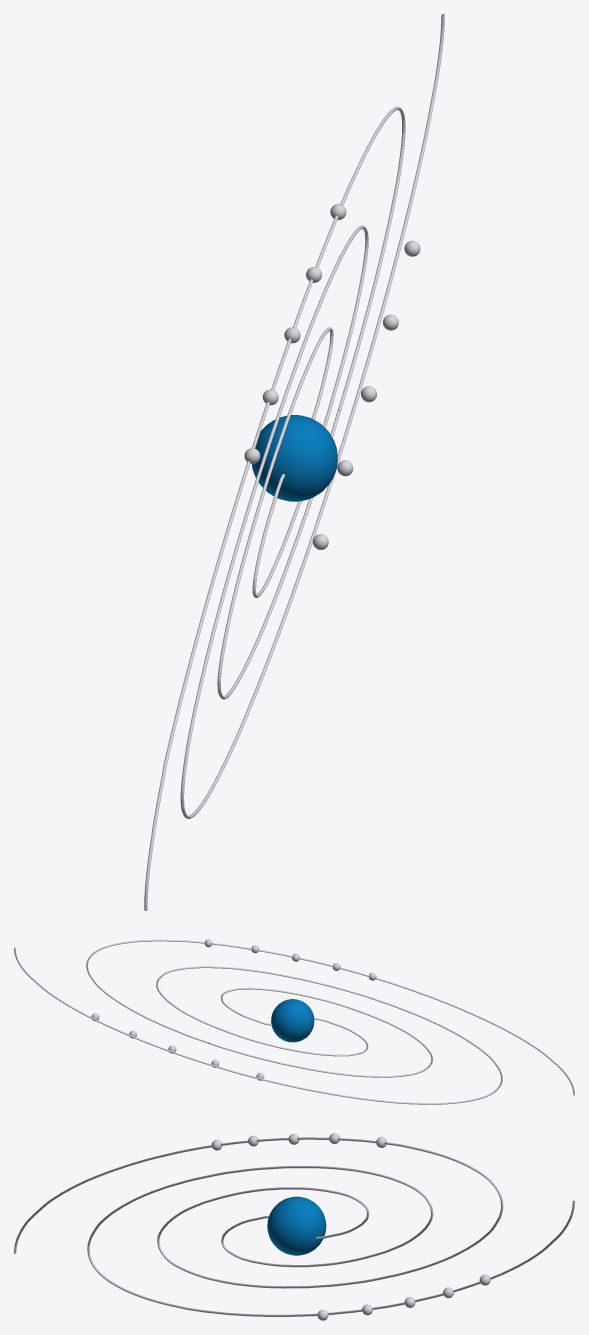
3 renders of one model, top to bottom at view 1: azimuth 30°, elevation 25°; view 2: azimuth 150°, elevation 25°; view 3: azimuth 270°, elevation 25°, orthographic. The views are drawn at different scales.
Parts seen in each view (by area): view 1: NurbsPath.003, Sphere.011; view 2: NurbsPath.003, Sphere.011; view 3: NurbsPath.003, Sphere.011.
Part boxes in pixels (x1,y1,x2,y2): NurbsPath.003: [144, 14, 444, 910]; Sphere.011: [252, 415, 337, 501]; NurbsPath.003: [14, 939, 574, 1104]; Sphere.011: [271, 999, 314, 1042]; NurbsPath.003: [14, 1137, 574, 1316]; Sphere.011: [267, 1196, 326, 1255].
Size of the model in its own units: 4.58 by 2.6 by 4.6.
